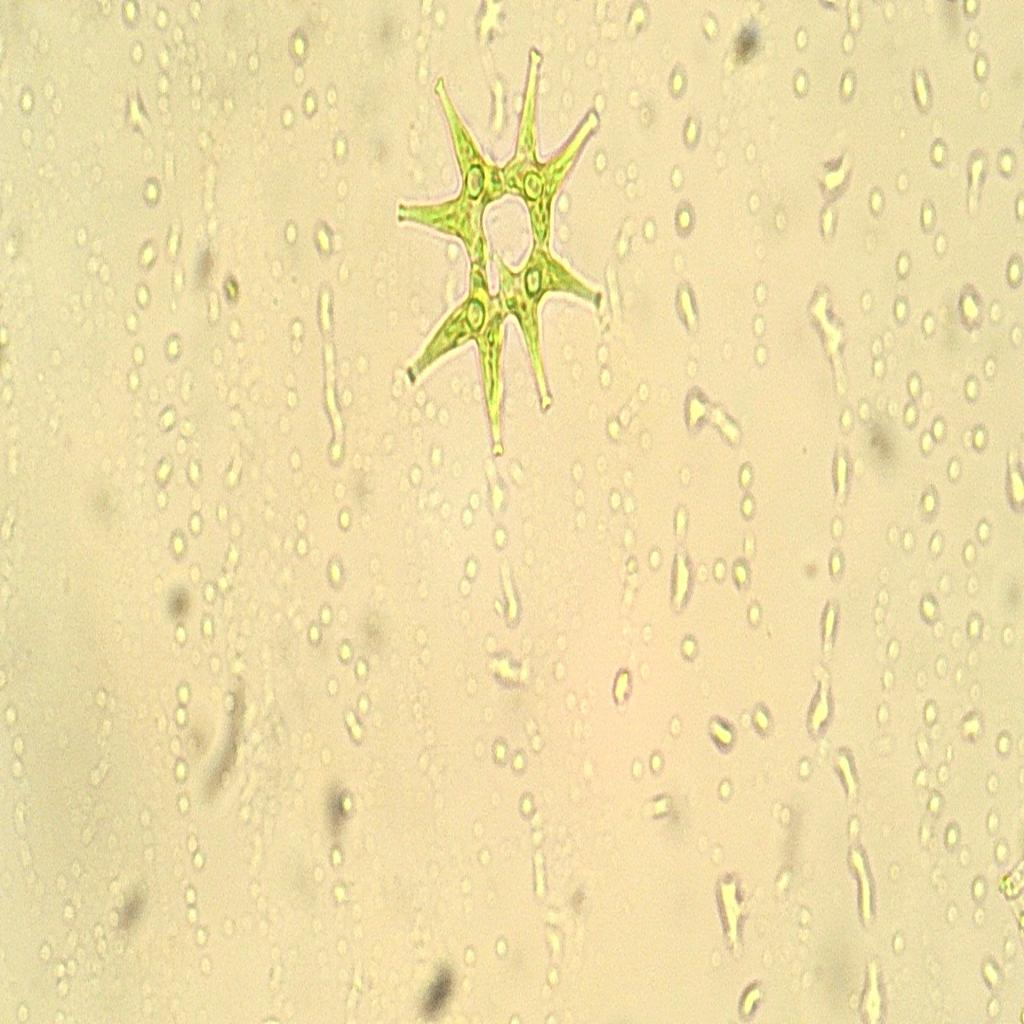Pediastrum_75FO: (392, 24, 618, 490)
